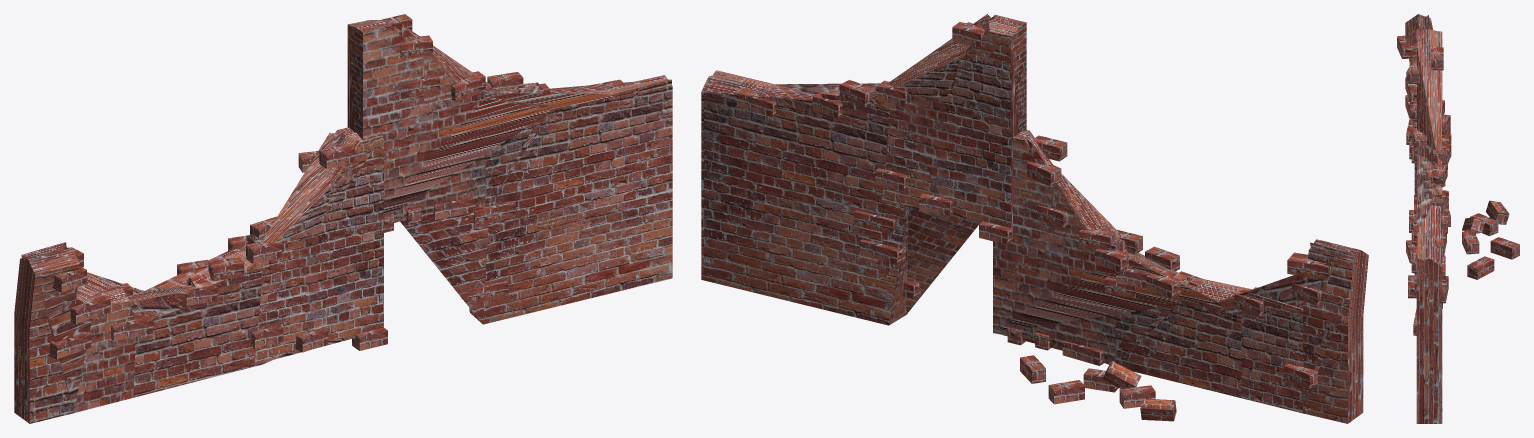
File: BrickWall.fbx
The picture shows the model from 3 angles, left to right: view 1: azimuth 30°, elevation 25°; view 2: azimuth 150°, elevation 25°; view 3: azimuth 270°, elevation 25°; orthographic projection. The views are drawn at different scales.
Visible parts, largest first — view 1: Cube.002, Cube.001, Cube.004, Cube.003; view 2: Cube.001, Cube.002, Cube.004, Cube.003; view 3: Cube.002, Cube.001, Cube.004, Cube.003.
Boxes of the visible parts, x1,y1,x2,y2 form: Cube.002: (14,14,672,423); Cube.001: (14,16,672,423); Cube.004: (42,24,633,412); Cube.003: (21,24,671,400); Cube.001: (701,19,1368,423); Cube.002: (701,15,1368,423); Cube.004: (702,14,1334,350); Cube.003: (707,16,1354,423); Cube.002: (1397,14,1509,423); Cube.001: (1397,14,1519,423); Cube.004: (1409,30,1442,266); Cube.003: (1414,15,1442,262).
Size of the model in its own units: 464 by 221 by 91.78.
